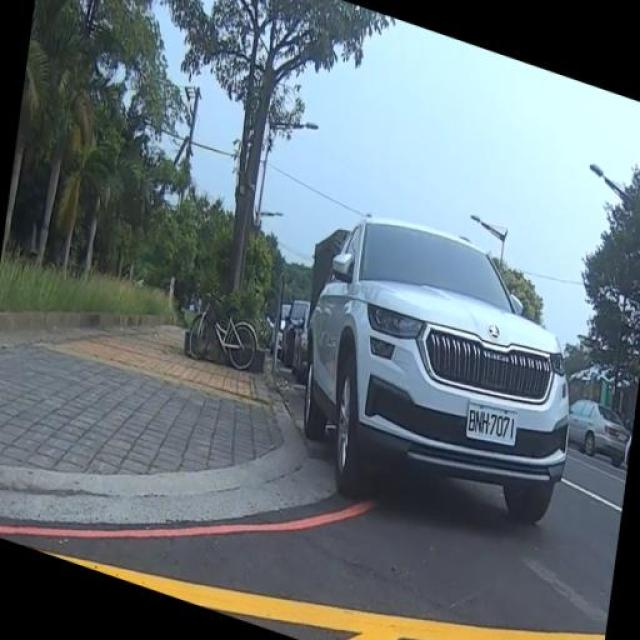illegalparking: (295, 205, 608, 517)
